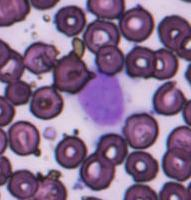L: (77, 70, 126, 130)
